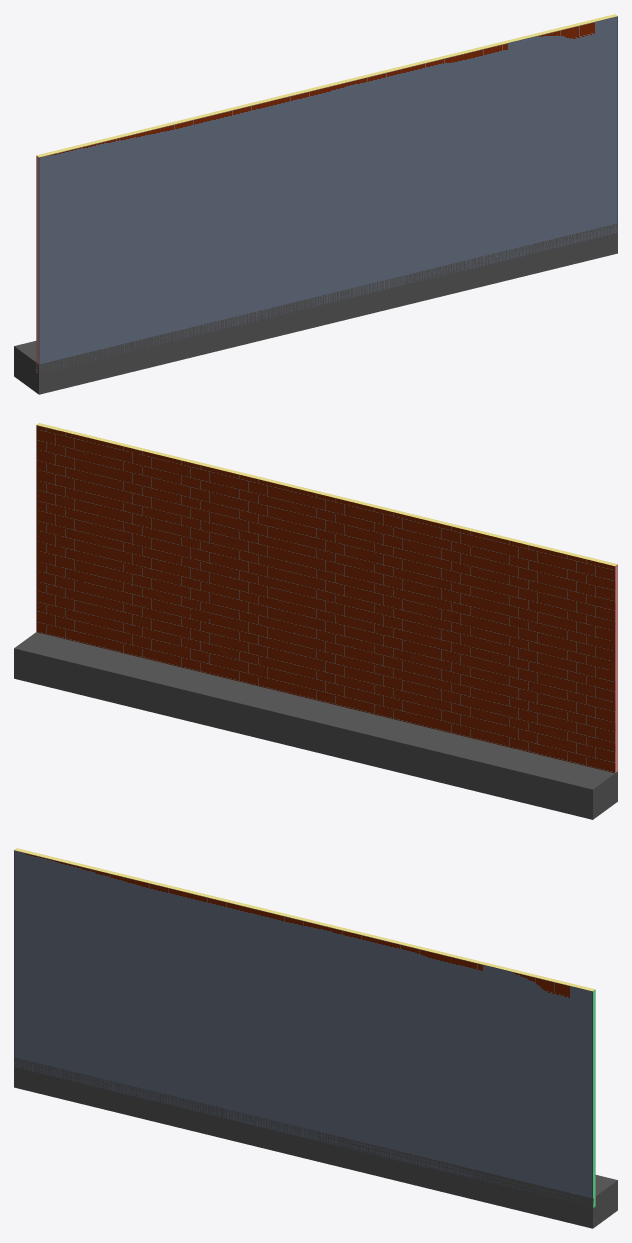
The picture shows the model from 3 angles, top to bottom: view 1: azimuth 30°, elevation 25°; view 2: azimuth 150°, elevation 25°; view 3: azimuth 330°, elevation 25°; orthographic projection.
Visible parts, largest first — view 1: plane, cube; view 2: plane, cube; view 3: plane, cube.
Part boxes in pixels (box(x1,y1,x2,y2)): plane: box(36, 14, 617, 373); cube: box(14, 223, 617, 394); plane: box(36, 423, 617, 773); cube: box(14, 632, 617, 819); plane: box(14, 848, 595, 1207); cube: box(14, 1057, 617, 1228).
Size of the model in its own units: 120 by 47 by 9.
Materials: 2 (2 with a texture image).
